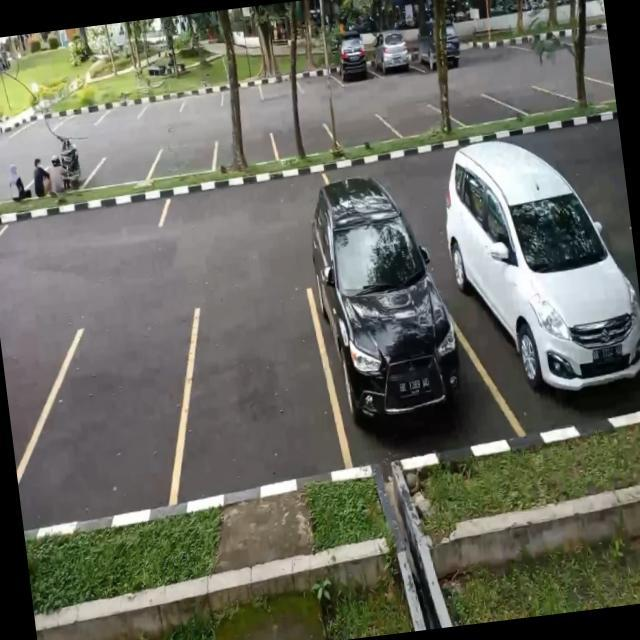empty: (170, 288, 344, 504), (22, 308, 195, 522), (0, 191, 173, 254), (326, 112, 397, 154), (86, 148, 158, 189), (152, 140, 222, 181), (214, 130, 278, 172), (387, 99, 452, 140), (448, 86, 508, 130), (504, 80, 569, 120), (272, 122, 336, 161), (566, 74, 616, 108)
occupied: (451, 214, 640, 428), (311, 244, 479, 467), (370, 33, 416, 80), (330, 43, 375, 86)
